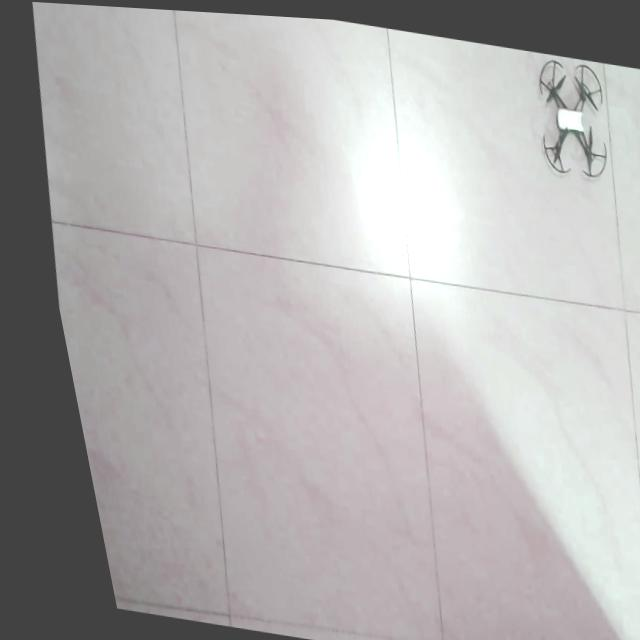drone: (537, 52, 602, 171)
